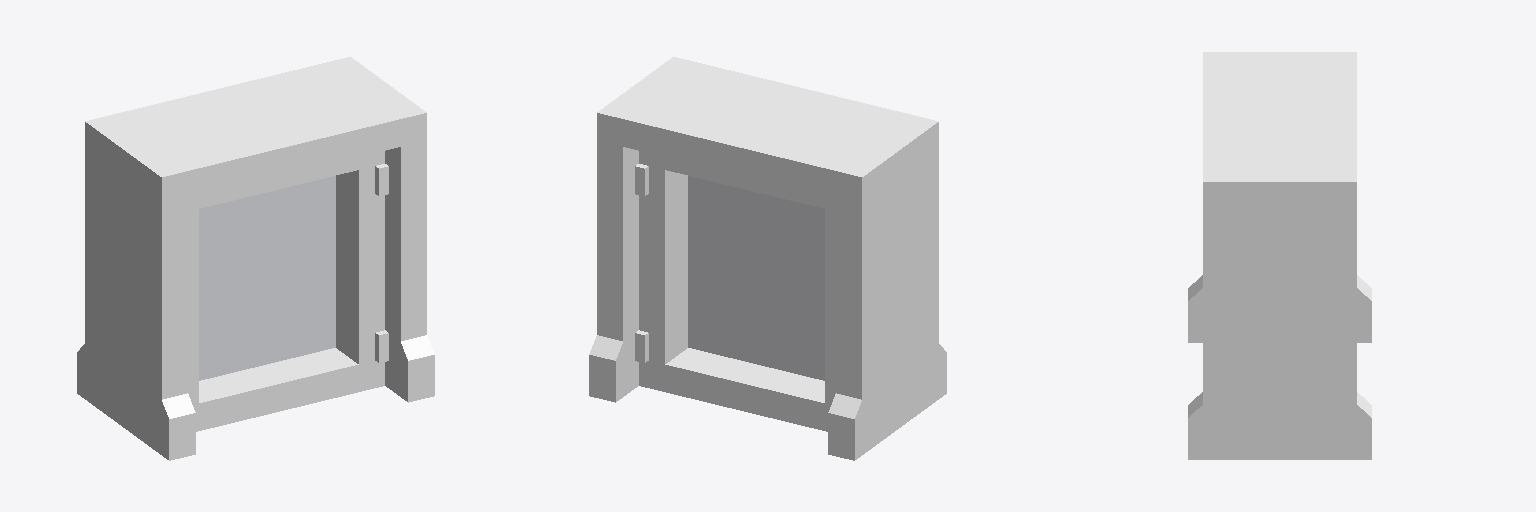
Rendered from wall-window.obj.
The picture shows the model from 3 angles: view 1: azimuth 30°, elevation 25°; view 2: azimuth 150°, elevation 25°; view 3: azimuth 270°, elevation 25°; orthographic projection.
Visible parts, largest first — view 1: wall-window, (%ignore); view 2: wall-window, (%ignore); view 3: wall-window.
Boxes of the visible parts, <box> form: wall-window: <box>77,57,434,460</box>; (%ignore): <box>199,176,335,380</box>; wall-window: <box>589,57,946,460</box>; (%ignore): <box>688,176,824,380</box>; wall-window: <box>1188,52,1371,459</box>.
Bounding box in the file's own units: 1 × 1 × 0.6.